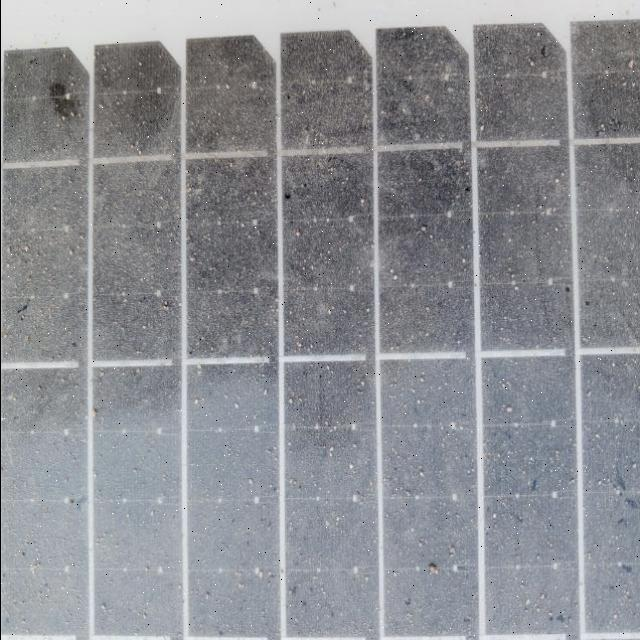Anomaly Solar Panel: (7, 6, 639, 640)
Surface Contaminant: (28, 7, 635, 620)
